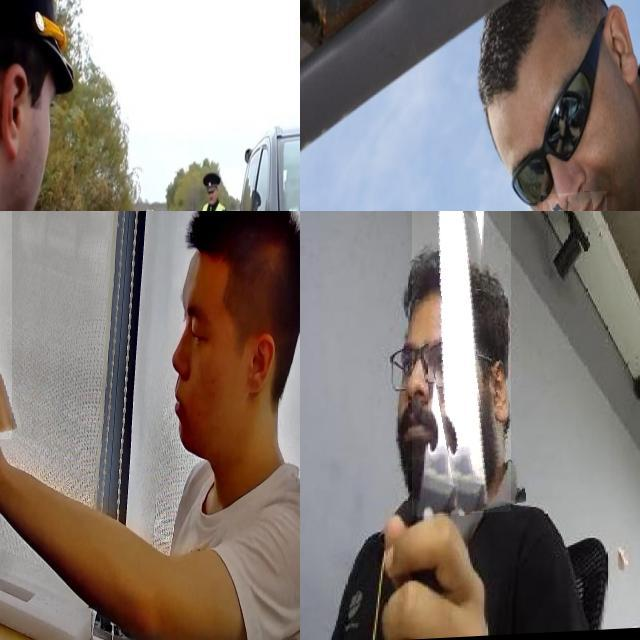-: (411, 211, 511, 518)
gun-knife-thesis - v11 Yolov5 augmented: (0, 212, 46, 444)
